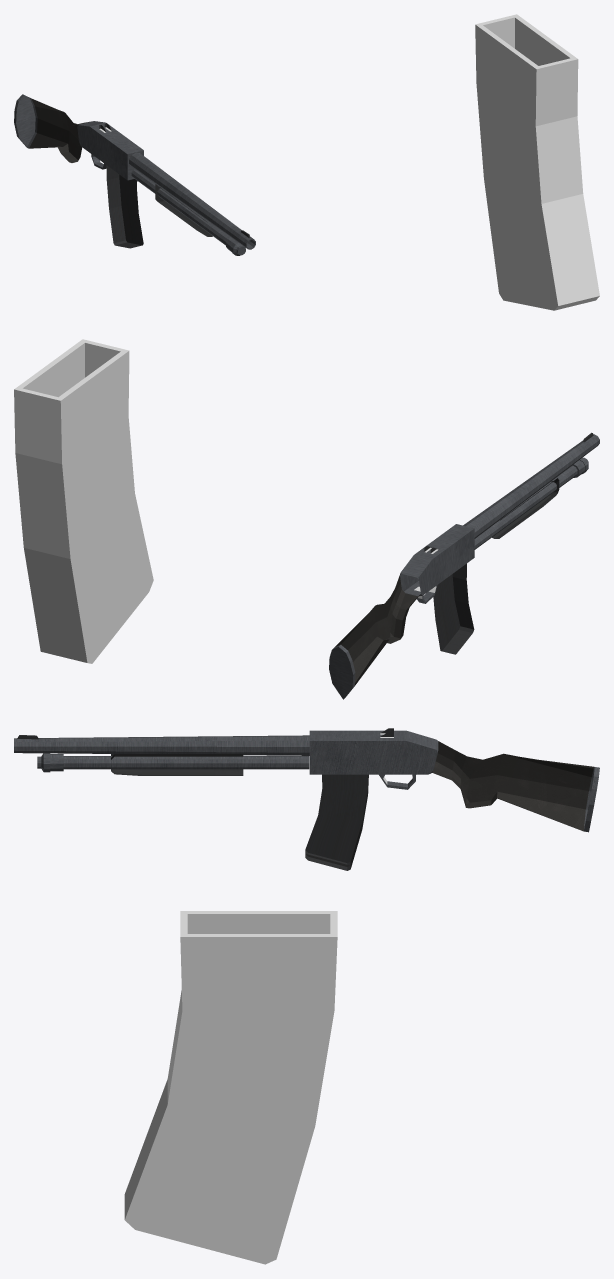
Rendered from pump_mag_shotgun.glb.
The picture shows the model from 3 angles, top to bottom: view 1: azimuth 30°, elevation 25°; view 2: azimuth 150°, elevation 25°; view 3: azimuth 270°, elevation 25°; orthographic projection. The views are drawn at different scales.
Visible parts, largest first — view 1: Cube.005, Cube.003; view 2: Cube.005, Cube.003; view 3: Cube.005, Cube.003.
Boxes of the visible parts, box(x1,y1,x2,y2) form: Cube.005: box(475, 14, 599, 310); Cube.003: box(14, 94, 255, 255); Cube.005: box(14, 339, 153, 663); Cube.003: box(329, 432, 599, 699); Cube.005: box(124, 911, 337, 1264); Cube.003: box(14, 728, 599, 870).
Size of the model in its own units: 1.3 by 0.7878 by 1.28.
5 materials, 4 textured.
